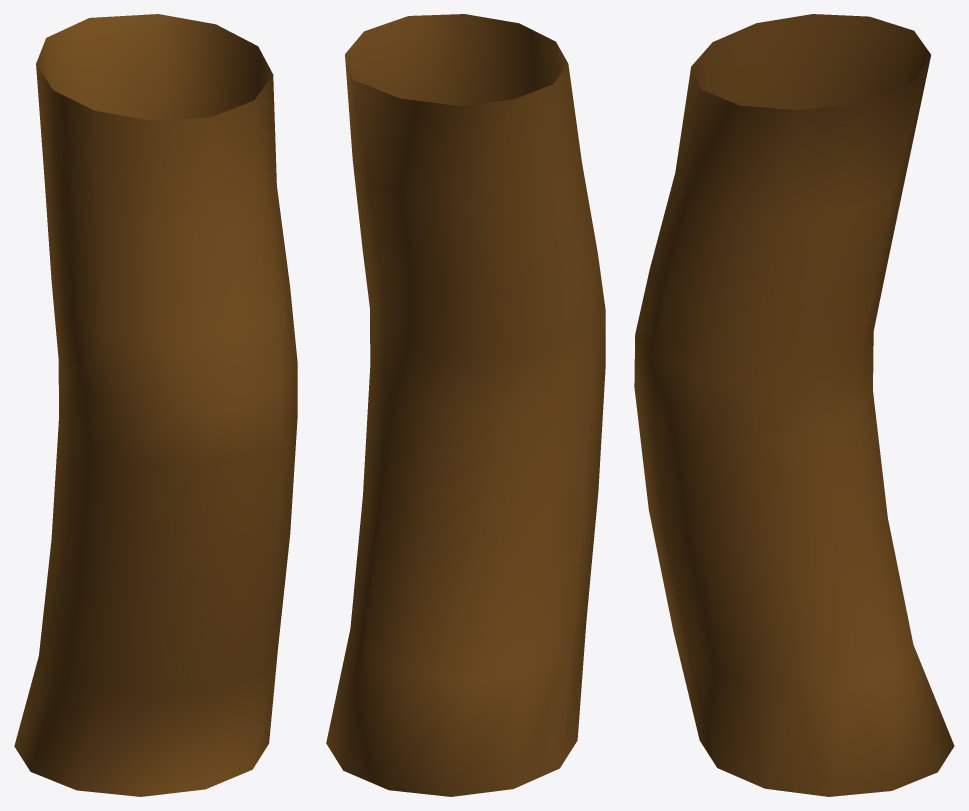
Rendered from Leg.fbx.
3 renders of one model, left to right at view 1: azimuth 30°, elevation 25°; view 2: azimuth 150°, elevation 25°; view 3: azimuth 270°, elevation 25°, orthographic.
Visible parts, largest first — view 1: monkey; view 2: monkey; view 3: monkey.
Boxes of the visible parts, x1,y1,x2,y2 form: monkey: [14, 14, 297, 796]; monkey: [326, 14, 605, 796]; monkey: [634, 14, 954, 796].
Bounding box in the file's own units: 33.53 × 101 × 42.23.
Materials: 1 (1 with a texture image).
